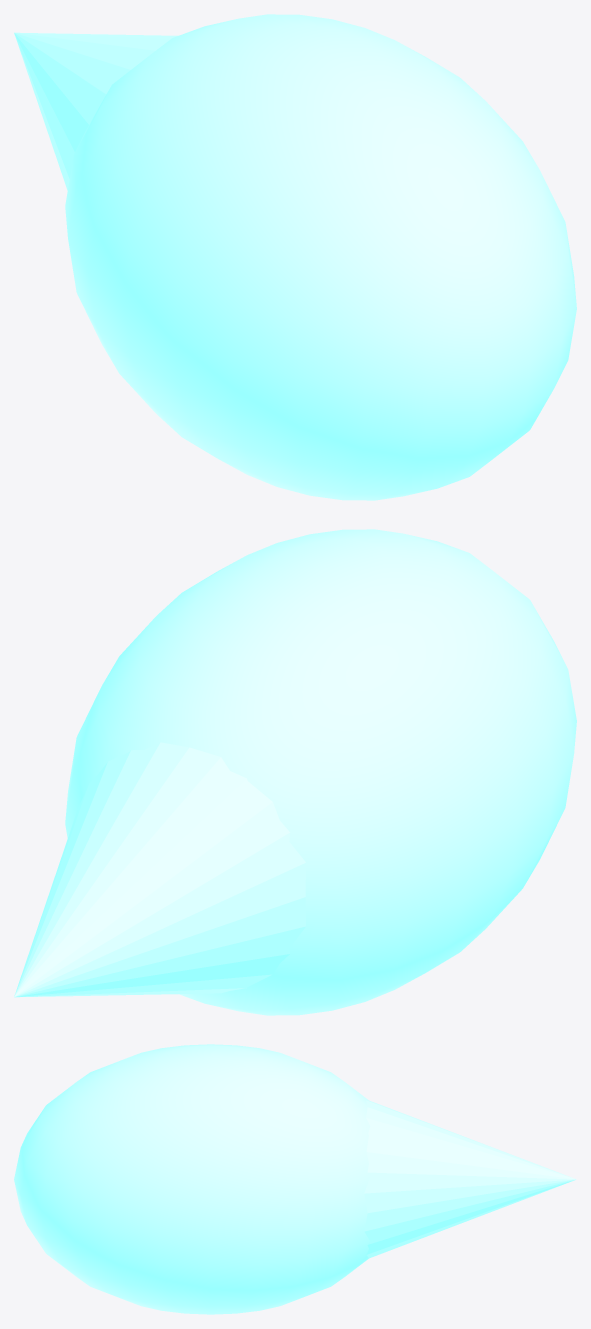
File: player_projectile.glb
3 renders of one model, top to bottom at view 1: azimuth 30°, elevation 25°; view 2: azimuth 150°, elevation 25°; view 3: azimuth 270°, elevation 25°, orthographic. The views are drawn at different scales.
Parts seen in each view (by area): view 1: Ally_water_drop, Ally_tail; view 2: Ally_water_drop, Ally_tail; view 3: Ally_water_drop, Ally_tail.
Part boxes in pixels (box(x1,y1,x2,y2)): Ally_water_drop: box(65, 14, 576, 500); Ally_tail: box(14, 32, 178, 190); Ally_water_drop: box(65, 529, 576, 1015); Ally_tail: box(14, 742, 305, 997); Ally_water_drop: box(14, 1044, 370, 1314); Ally_tail: box(364, 1100, 576, 1258).
Size of the model in its own units: 0.4 by 0.4 by 0.83.
